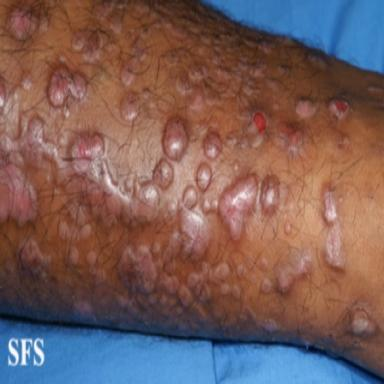Epidermolysis-Bullosa-Pruriginosa: (89, 1, 334, 116), (0, 68, 173, 224), (117, 242, 279, 335), (163, 165, 212, 260), (203, 175, 259, 239), (260, 250, 313, 293), (59, 202, 92, 265), (48, 68, 86, 120), (323, 190, 345, 268), (6, 8, 47, 41), (17, 238, 52, 276), (72, 29, 109, 62), (121, 41, 145, 87), (163, 118, 188, 159), (349, 302, 376, 337), (259, 175, 279, 215), (279, 124, 302, 153), (250, 112, 267, 147), (87, 252, 106, 283), (203, 130, 222, 159), (121, 92, 139, 122), (295, 100, 318, 118), (73, 300, 94, 318), (329, 100, 348, 118), (257, 255, 269, 270), (283, 221, 293, 235), (59, 133, 66, 146), (233, 161, 239, 172)
